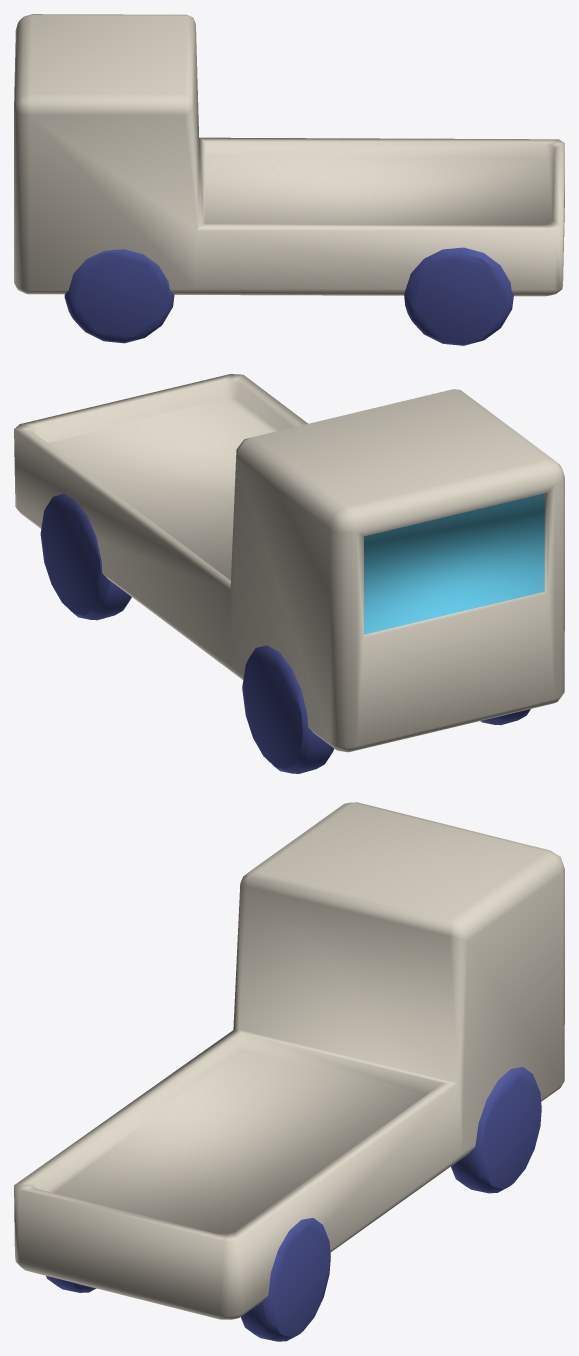
The model's file is 004_トラック002.glb.
3 renders of one model, top to bottom at view 1: azimuth 30°, elevation 25°; view 2: azimuth 150°, elevation 25°; view 3: azimuth 270°, elevation 25°, orthographic. The views are drawn at different scales.
Visible parts, largest first — view 1: 立方体123_1, 立方体123; view 2: 立方体123_1, 立方体123_2, 立方体123; view 3: 立方体123_1, 立方体123.
Part boxes in pixels (x1=…): 立方体123_1: x1=14, y1=14, x2=564, y2=296; 立方体123: x1=64, y1=247, x2=513, y2=345; 立方体123_1: x1=14, y1=374, x2=564, y2=752; 立方体123_2: x1=364, y1=493, x2=544, y2=634; 立方体123: x1=40, y1=494, x2=530, y2=773; 立方体123_1: x1=14, y1=802, x2=564, y2=1319; 立方体123: x1=46, y1=1067, x2=541, y2=1341.
Bounding box in the file's own units: 3.31 × 1.56 × 2.64.
